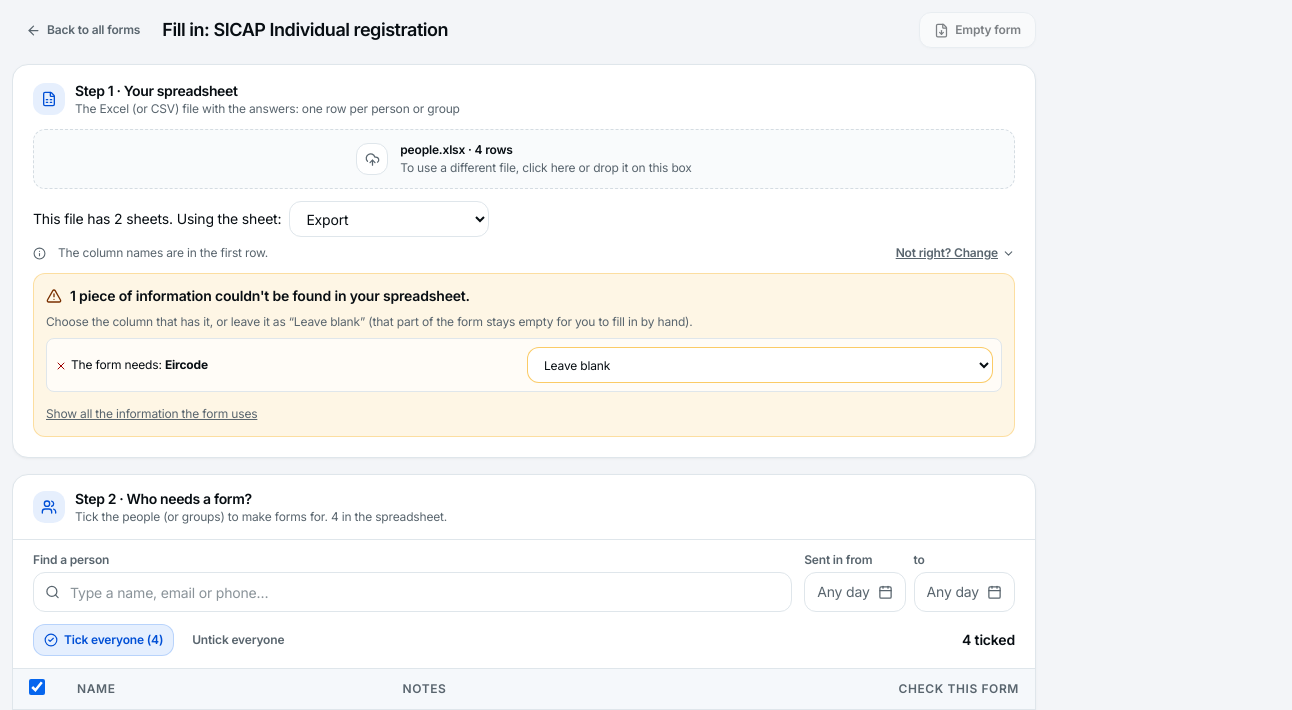
Test: FillView › a sheet without column names › lets the person say where the names are instead
Select "Ciara’s people" in the dropdown labelled "sheet". click: point(389, 219)
box: [289,201,489,237]
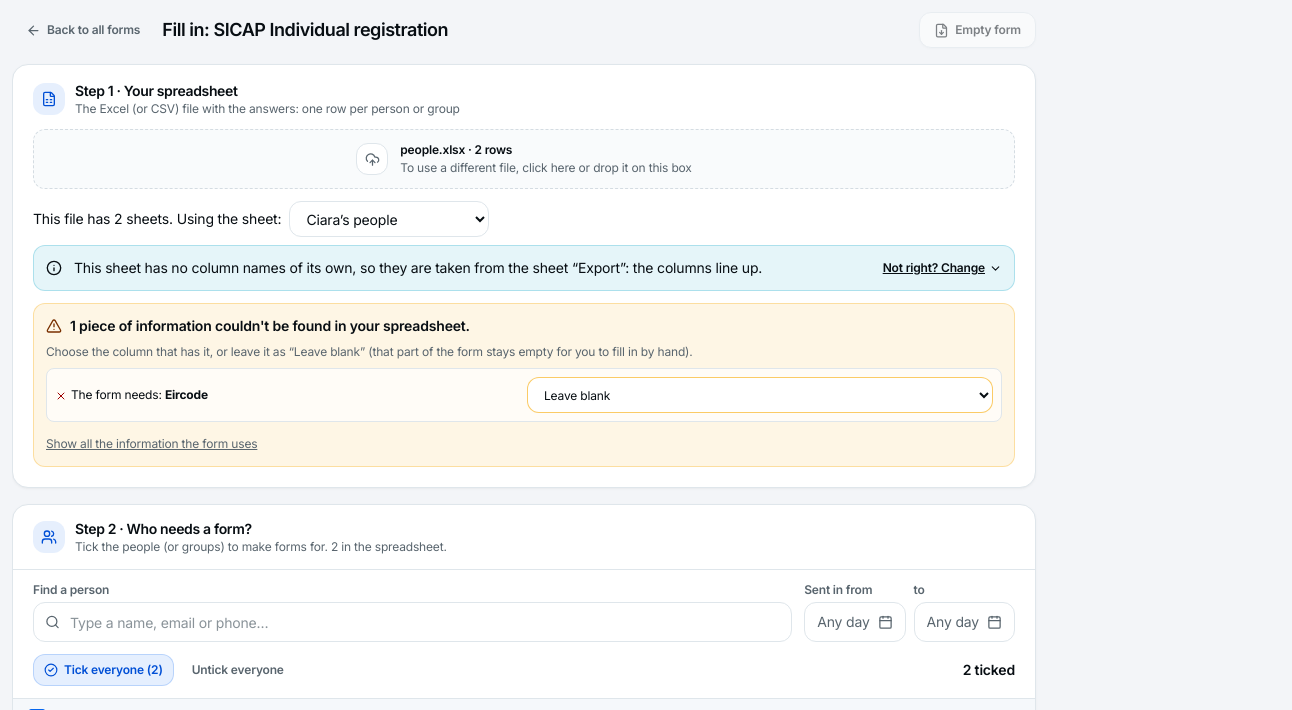
Click the button "Not right? Change". click: point(942, 268)
box: [883,260,1002,276]
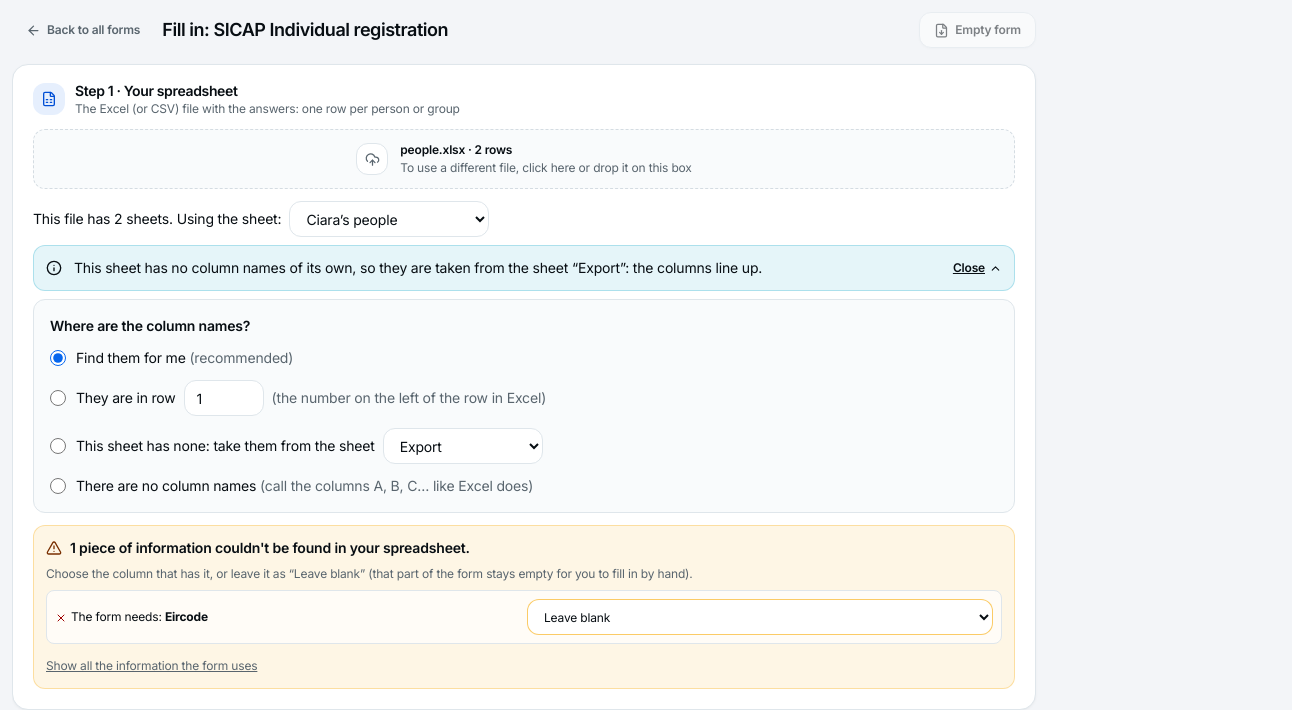
Click the radio button labelled "There are no column names". click: point(58, 486)
box: [50,478,66,494]
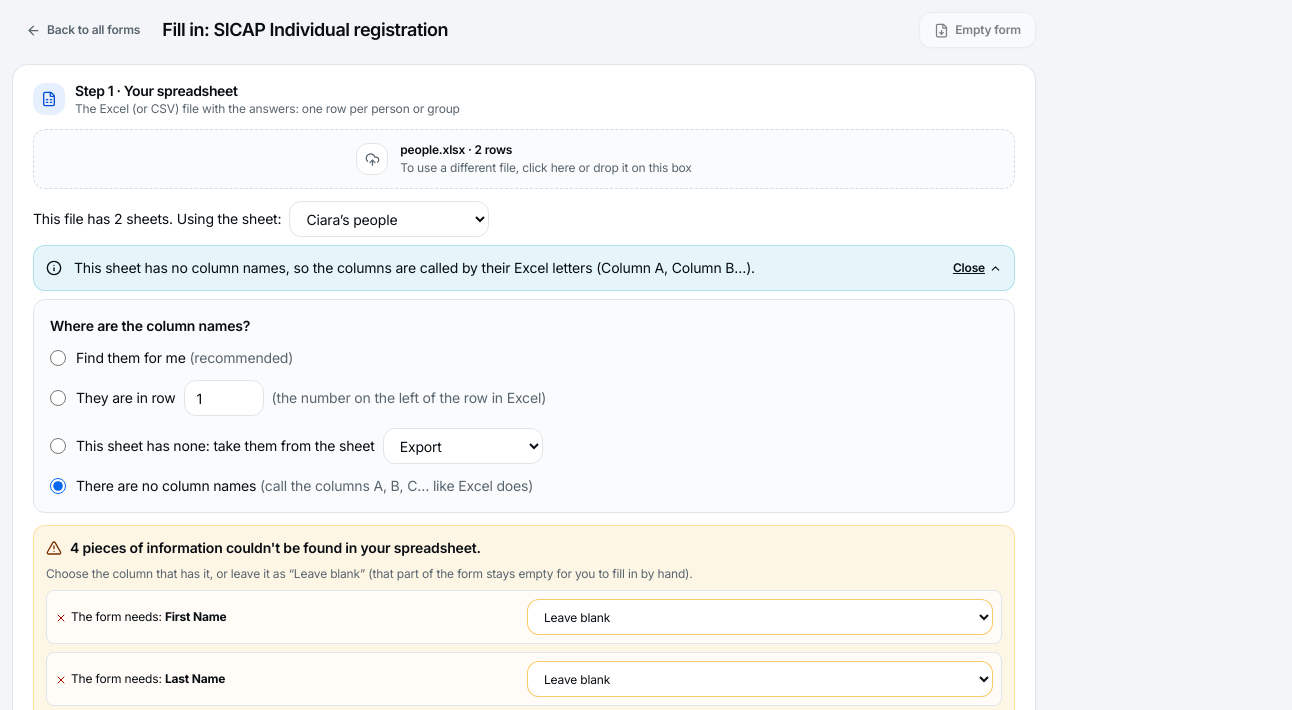
expect the text with test id "names-note" shows "Excel letters": met, box [74,259,755,276]
Click the radio button labelled "Find them for me (recommended)". click: point(58, 358)
box: [50,350,66,366]
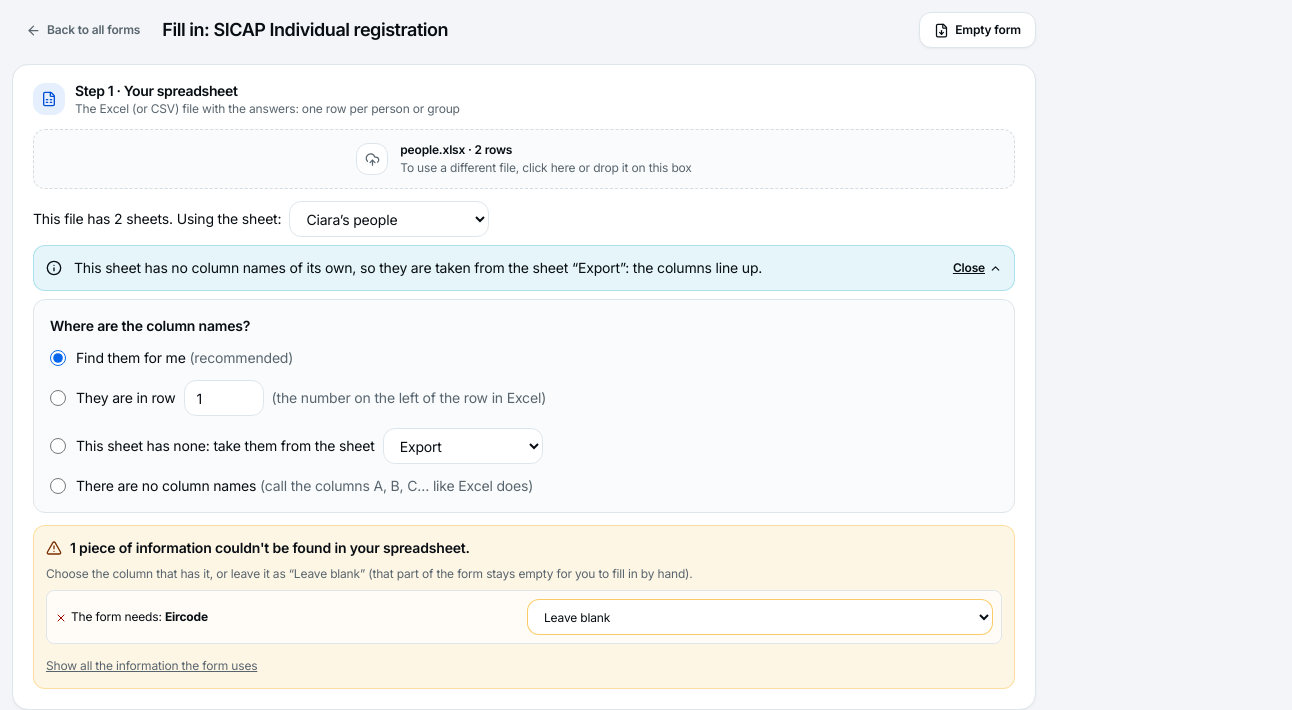
expect the text with test id "names-note" shows "taken from the sheet “Export”": met, box [74,259,762,276]
